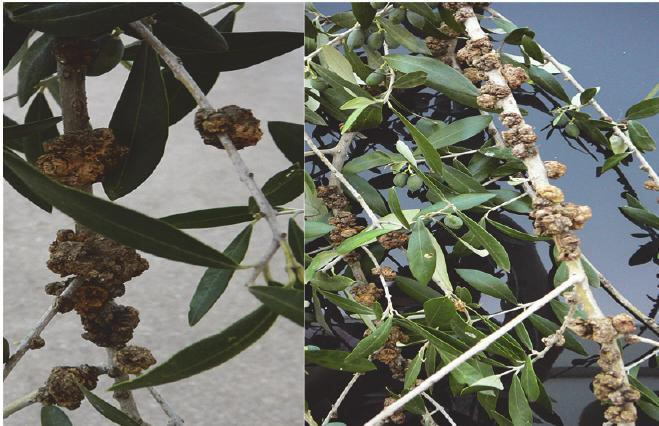Tuberculosis: (45, 222, 153, 345), (33, 124, 132, 191), (527, 185, 595, 263), (193, 103, 265, 156), (596, 346, 641, 424), (35, 362, 101, 412), (323, 210, 370, 262), (499, 113, 540, 160), (578, 313, 640, 343), (454, 35, 502, 73), (110, 345, 160, 377), (349, 279, 383, 311), (315, 182, 352, 211), (497, 62, 533, 90), (375, 227, 410, 252), (380, 325, 410, 349), (382, 396, 406, 426), (421, 32, 451, 56), (460, 65, 491, 88), (372, 262, 398, 284), (542, 158, 569, 179), (473, 91, 499, 111), (372, 347, 398, 366), (26, 334, 47, 352), (409, 376, 428, 394), (641, 178, 659, 193)
